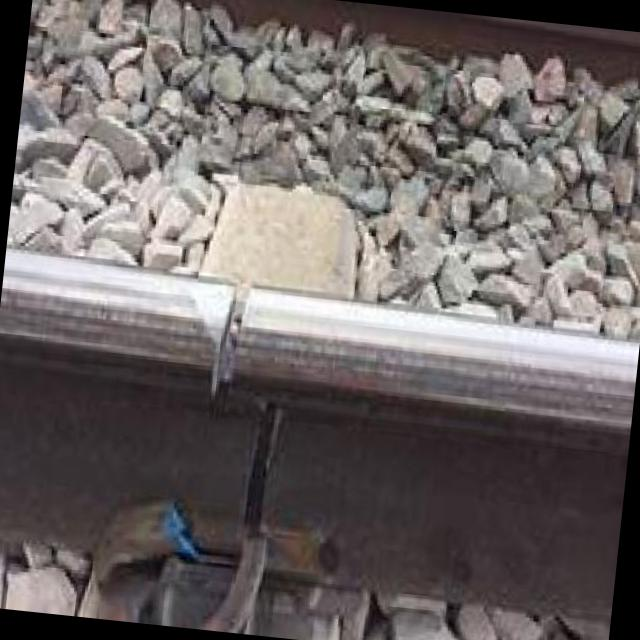defective: (0, 130, 547, 640)
